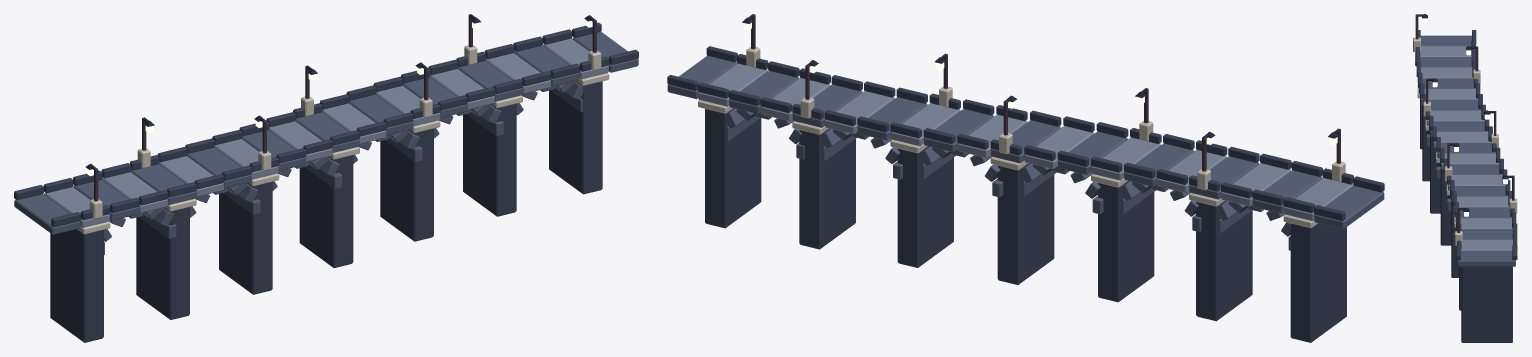
The model's file is viaduct_bridge.glb.
3 renders of one model, left to right at view 1: azimuth 30°, elevation 25°; view 2: azimuth 150°, elevation 25°; view 3: azimuth 270°, elevation 25°, orthographic. The views are drawn at different scales.
Parts seen in each view (by area): view 1: ViaductRoot_Merged; view 2: ViaductRoot_Merged; view 3: ViaductRoot_Merged.
Part boxes in pixels (left/top/right/bottom): ViaductRoot_Merged: left=14, top=14, right=638, bottom=342; ViaductRoot_Merged: left=667, top=14, right=1384, bottom=342; ViaductRoot_Merged: left=1413, top=14, right=1517, bottom=342.
Bounding box in the file's own units: 28.32 × 7.73 × 5.55.
